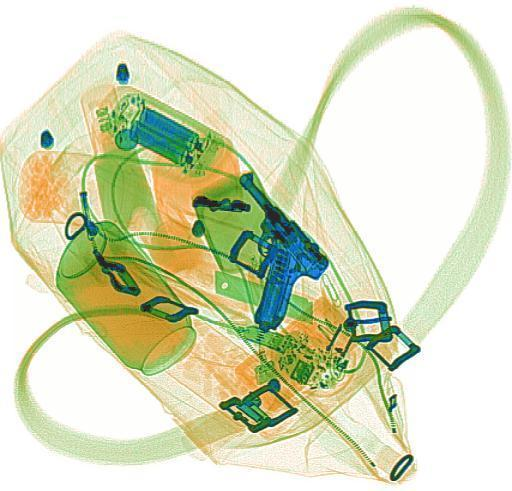Gun: (169, 165, 348, 335)
